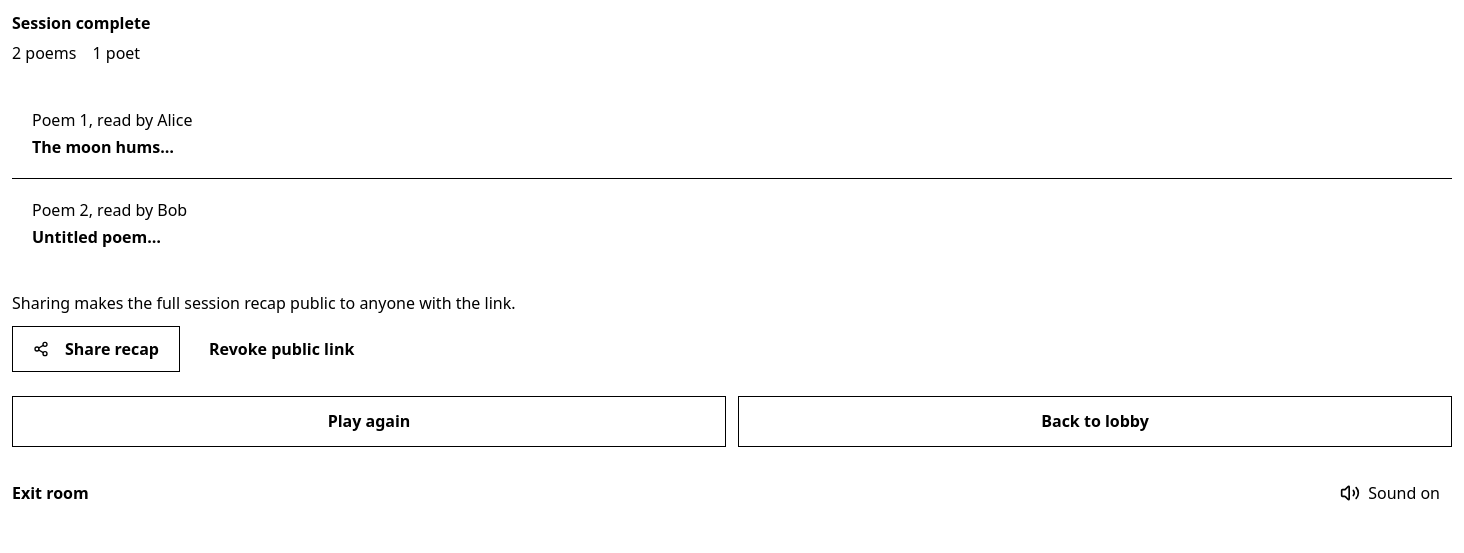
Scenario: SessionRecapHub › copies the session recap link when native share is unavailable
Click the button "Share recap" at (96, 349), box x1=12 y1=326 x2=180 y2=372
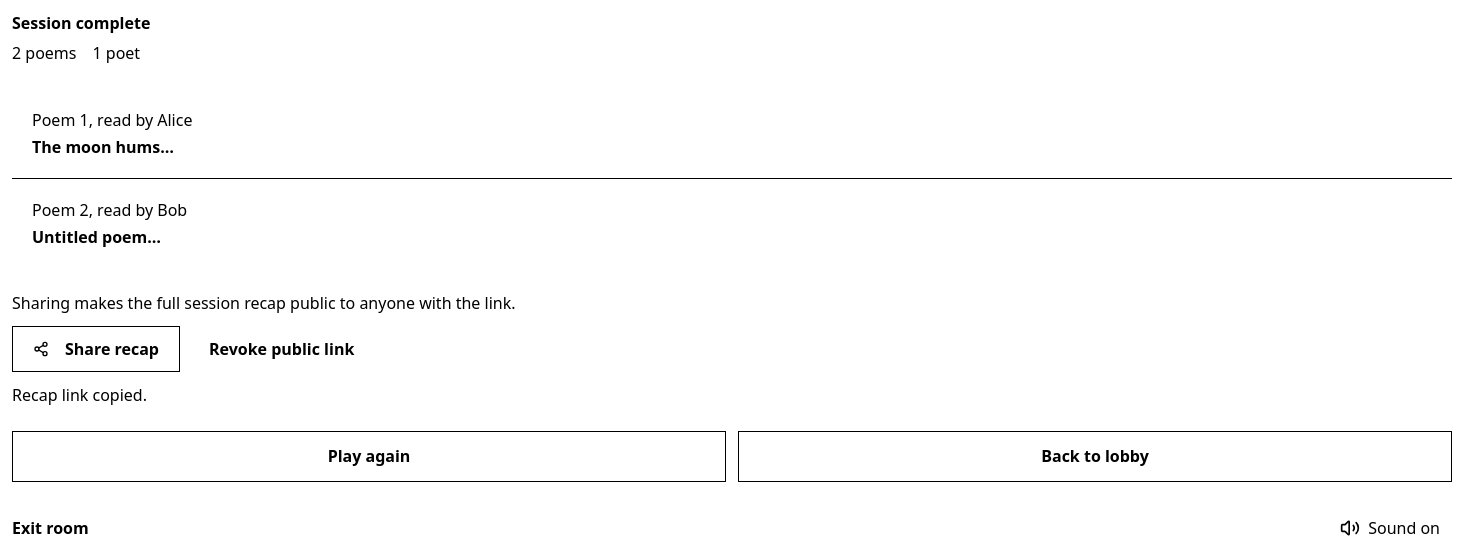
Check: the text "1 poet" is shown, box x1=92 y1=42 x2=140 y2=65
Check: the text "Recap link copied." is shown, box x1=12 y1=384 x2=147 y2=406
